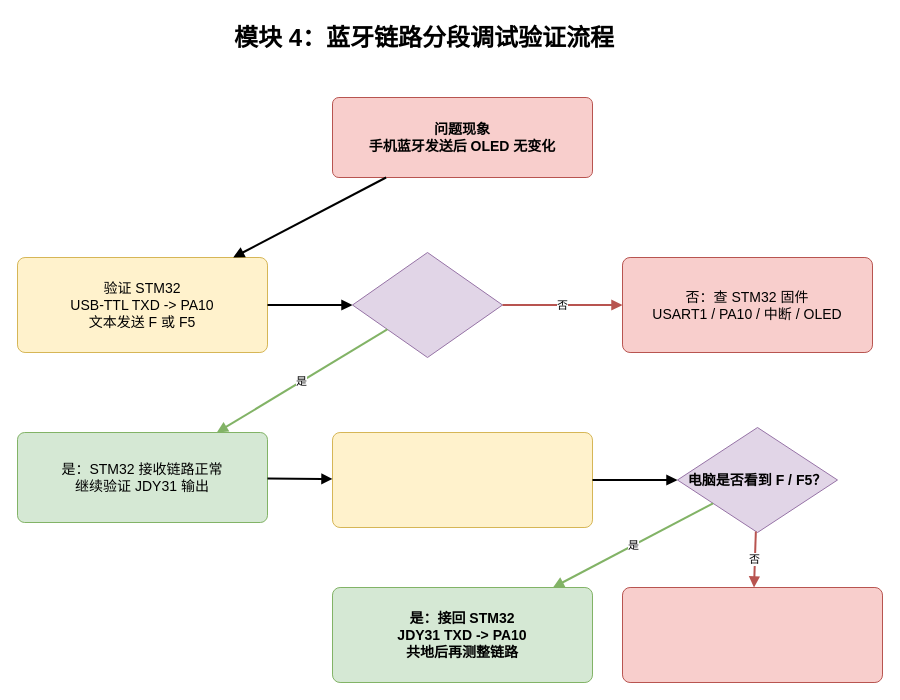
Some shapes in this 900 by 700 pixel diagram are drawn without their labels. Here are the shapes that lost their labels. From the top down, the centre of each, then its label:
point 427,305: OLED 是否变化？
point 462,480: 验证 JDY31 JDY31 TXD -> USB-TTL RXD 手机文本发送 F / F5
point 752,634: 否：查手机 SPP 连接 文本/HEX 模式 JDY31 是否被 JDY34 占用
